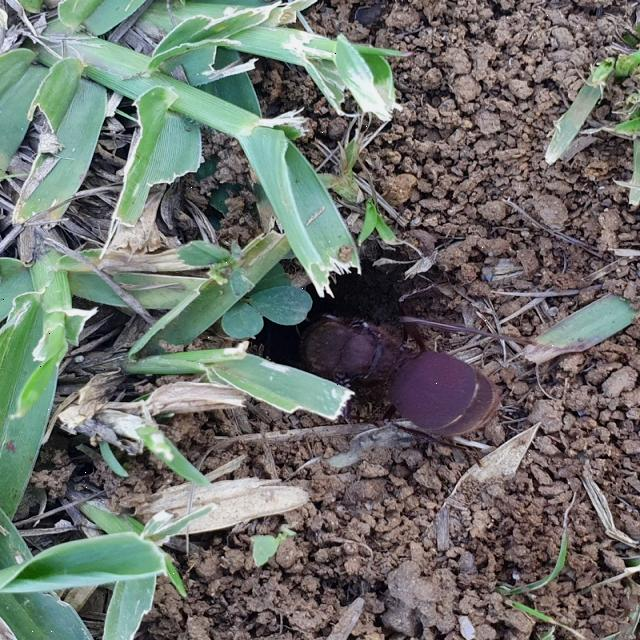Alive-Female-Dealate: (300, 318, 500, 468)
